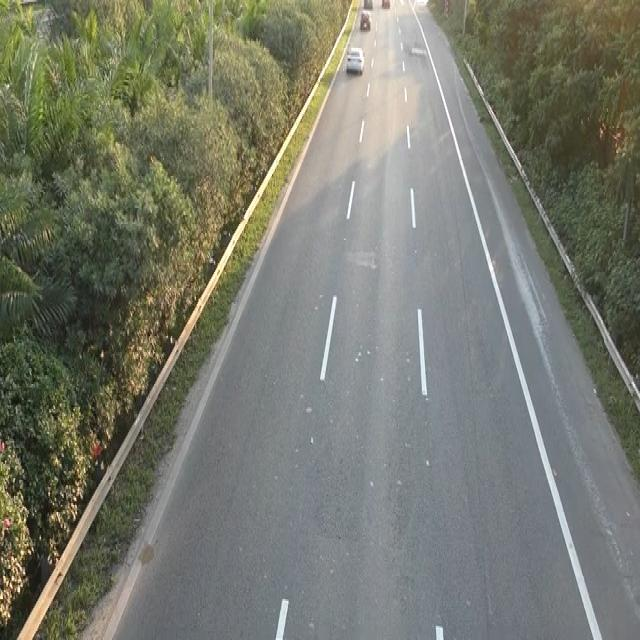bus: (343, 42, 368, 82), (358, 9, 371, 30)
